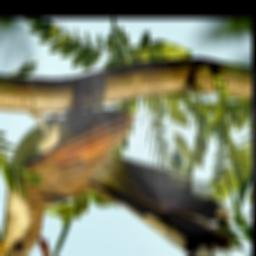Cuckoo: (0, 105, 236, 256)
